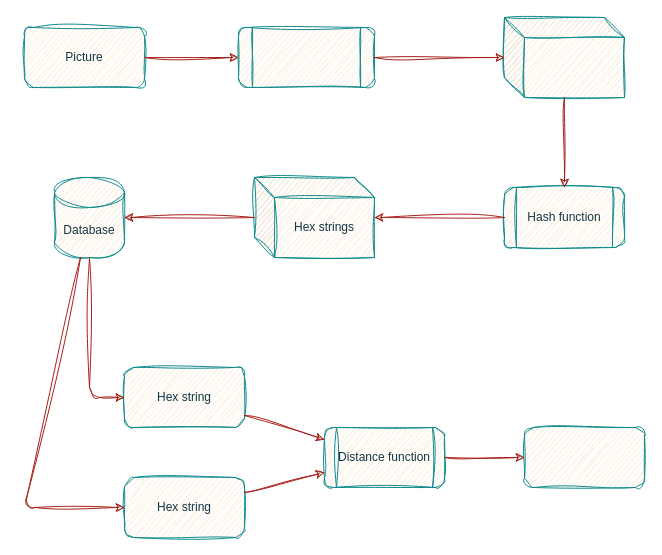
Some shapes in this 662 by 555 pixel diagram are drawn without their labels. The shapes that lost their labels are listed below. From the top down, each one's box as (x1, y1, x2, y2) in pixels, then its label:
(238, 26, 374, 88): Rotation function
(504, 16, 624, 98): collection of pictures
(524, 426, 644, 488): Distance
